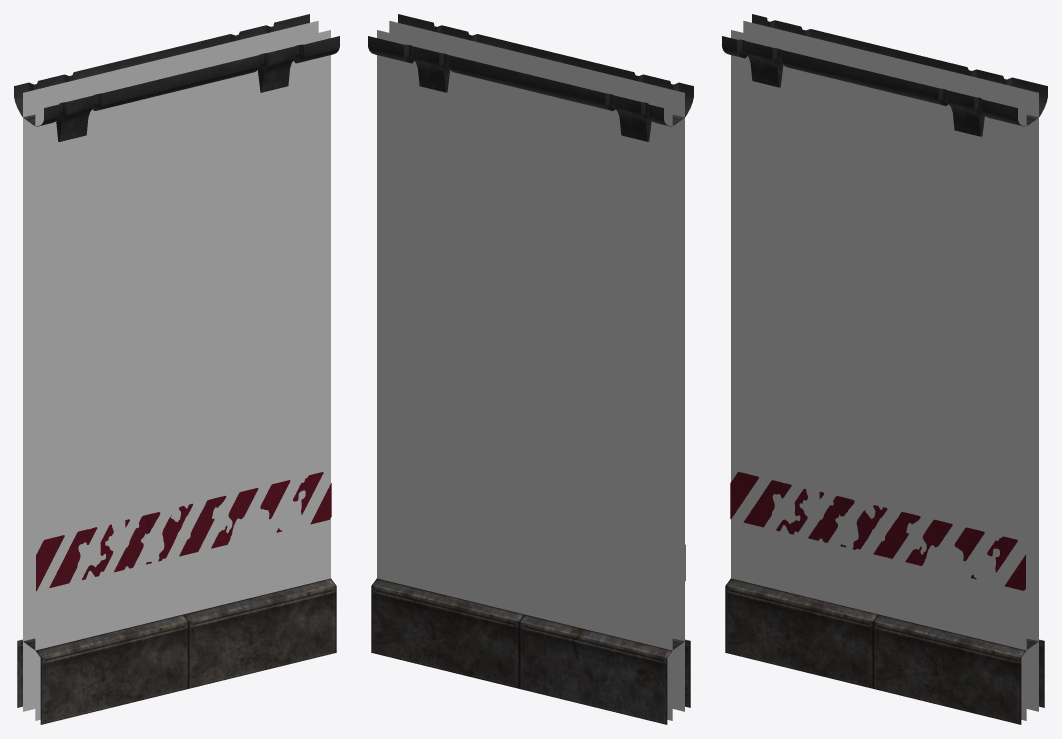
File: lab_flat_glass_short_striped.dae
3 renders of one model, left to right at view 1: azimuth 30°, elevation 25°; view 2: azimuth 150°, elevation 25°; view 3: azimuth 330°, elevation 25°, orthographic.
Parts seen in each view (by area): view 1: polySurface51, polySurface20, polySurface27; view 2: polySurface51, polySurface20; view 3: polySurface51, polySurface20, polySurface27.
Part boxes in pixels (x1,y1,x2,y2): polySurface51: (23,21,330,720); polySurface20: (14,14,339,724); polySurface27: (36,472,331,591); polySurface51: (377,21,684,720); polySurface20: (368,14,693,724); polySurface51: (731,21,1038,720); polySurface20: (722,14,1047,724); polySurface27: (730,472,1025,590).
Bounding box in the file's own units: 2 × 4 × 0.3514.
